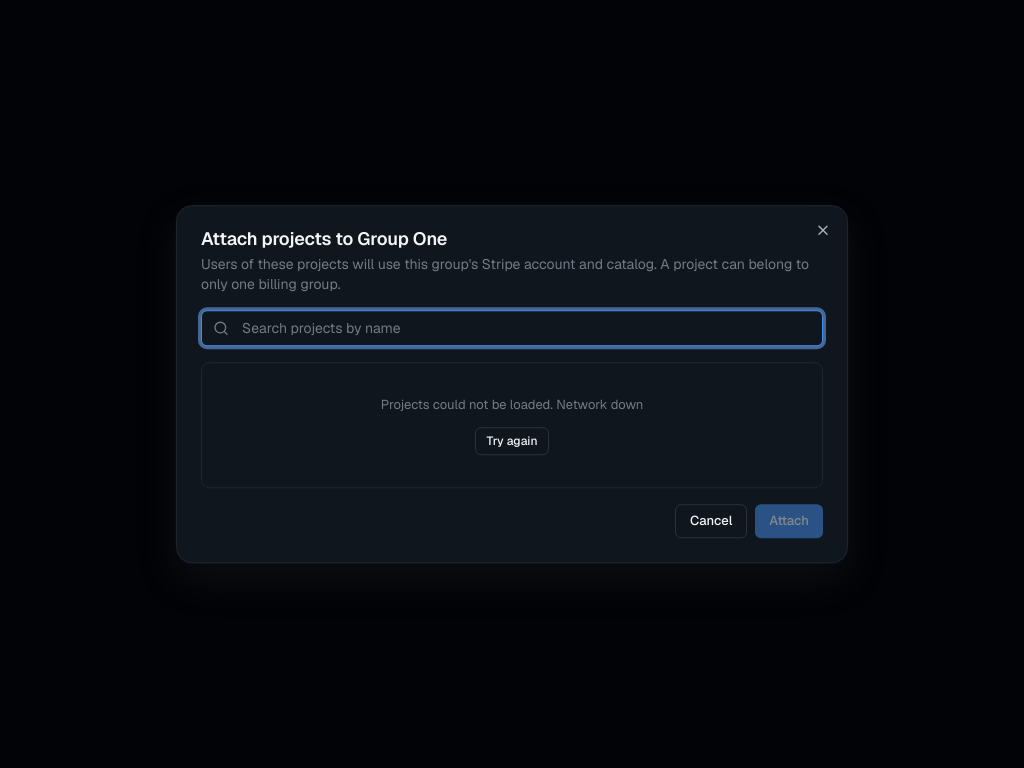
BillingAttachProjectsModal › shows a retry when the project list cannot be loaded
Expected: the text "Projects could not be loaded. Network down" is shown, [381,395,643,415]
Step 1. Click the button "Try again" → (512, 441), box [475,427,548,455]
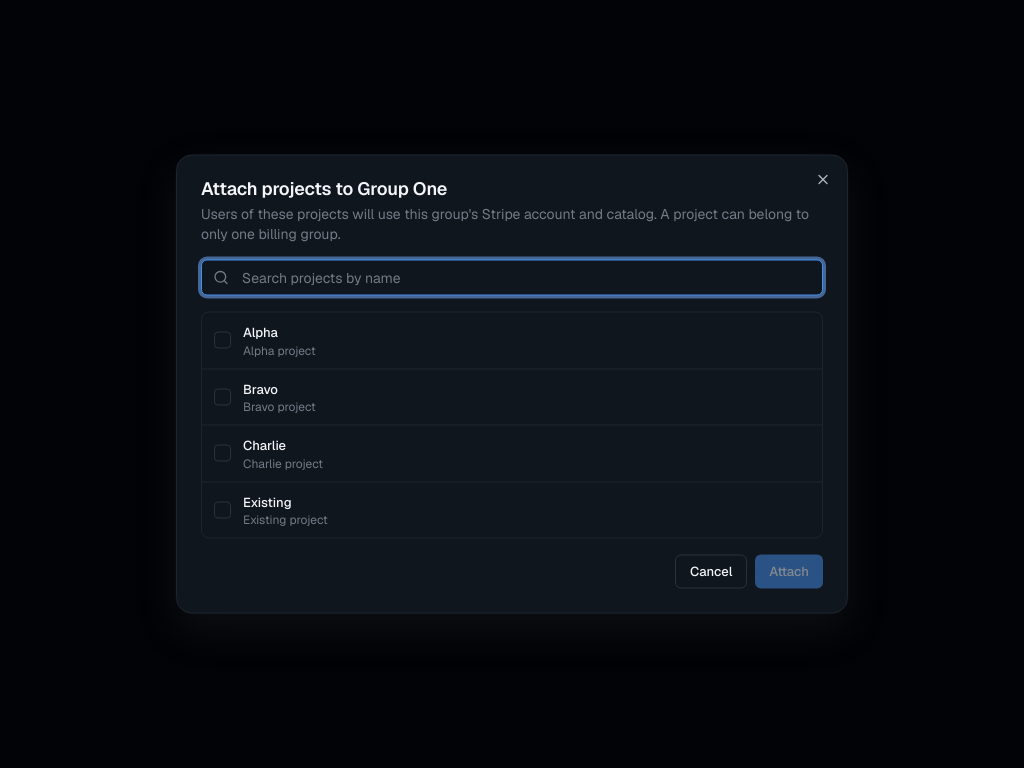
Expected: the text "Alpha" is shown, [243,324,278,340]
